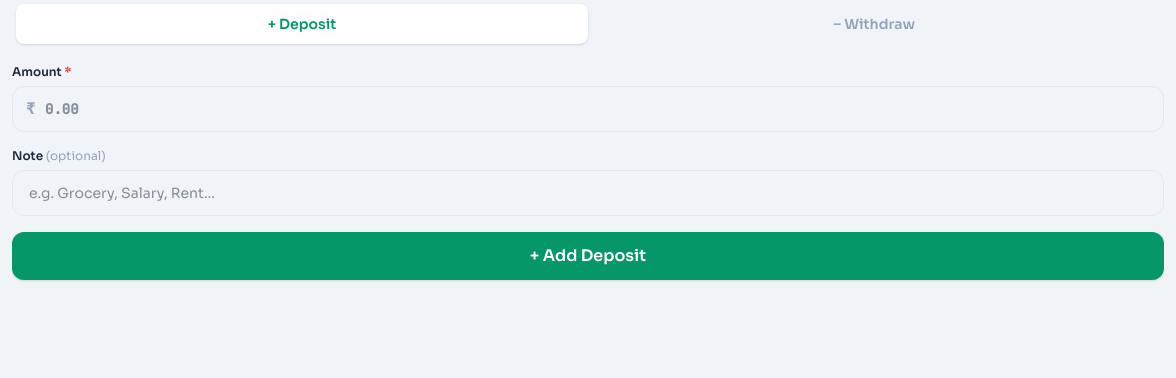
TransactionForm › shows insufficient balance error for withdrawal
The image size is (1176, 378).
# Click Withdraw toggle
Click the button "− Withdraw": point(874, 24) left=588, top=4, right=1160, bottom=44
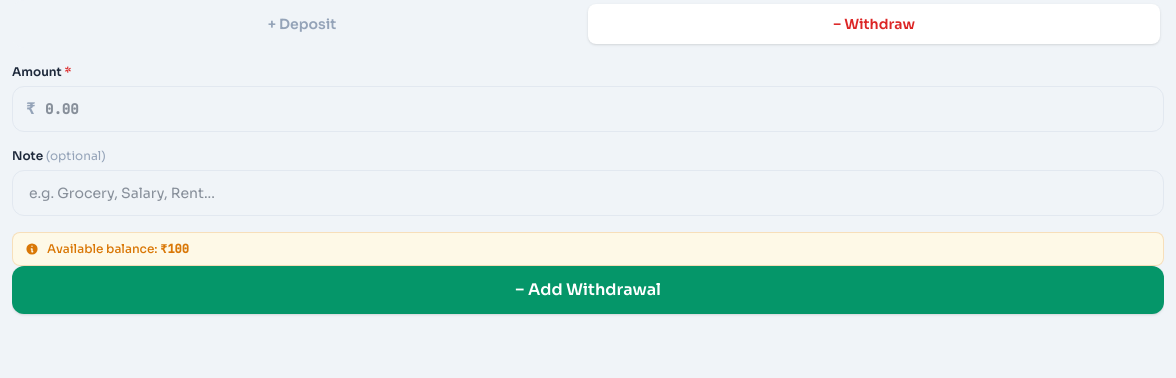
In the number field with placeholder "0.00": point(588, 109) left=12, top=86, right=1164, bottom=132, type "200"
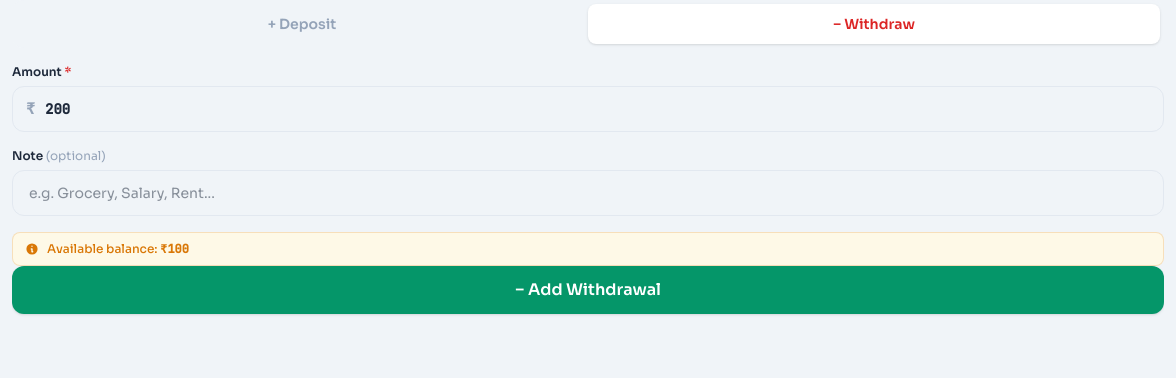
# Click submit (Add Withdrawal)
Click the button "− Add Withdrawal": point(588, 290) left=12, top=266, right=1164, bottom=314
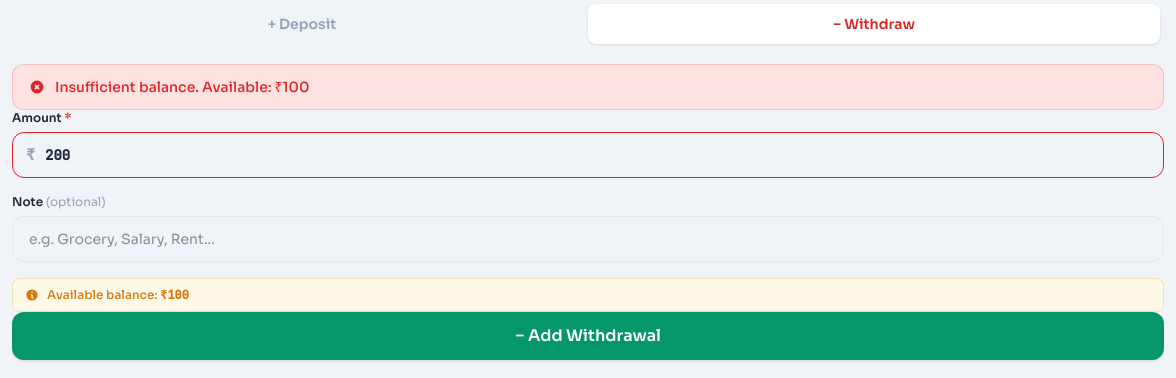
Result: the text "Insufficient balance" is shown at left=55, top=78, right=310, bottom=96
